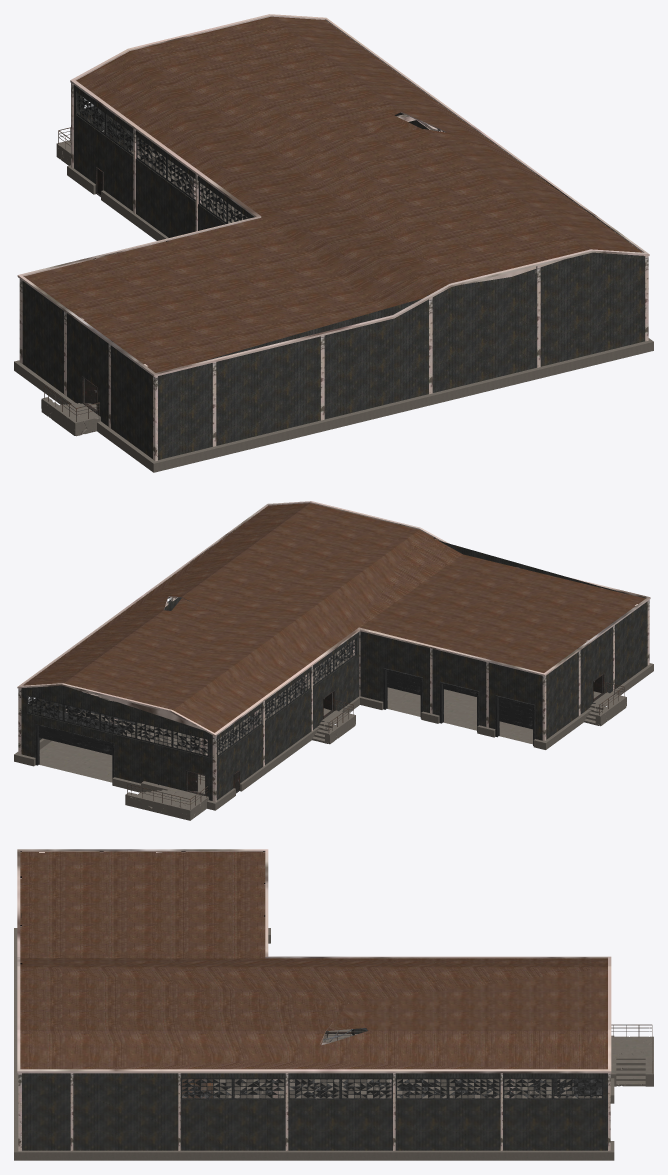
The model's file is warehouse.a49098b712.glb.
The picture shows the model from 3 angles, top to bottom: view 1: azimuth 30°, elevation 25°; view 2: azimuth 150°, elevation 25°; view 3: azimuth 270°, elevation 25°; orthographic projection. The views are drawn at different scales.
Visible parts, largest first — view 1: Roof, WarehouseWalls, WarehouseBase, SideSupportBeam, Windows, ConcreteSteps, Floor; view 2: Roof, WarehouseWalls, Floor, Windows, ConcreteSteps, WarehouseBase, SideSupportBeam, MainGate.001, SmallGateVar1, SmallGateVar2, Railings, SmallGateVar3; view 3: Roof, WarehouseWalls, Windows, WarehouseBase, Floor, ConcreteSteps, SideSupportBeam.
Part boxes in pixels (box(x1,y1,x2,y2)): Roof: box(17, 14, 649, 376); WarehouseWalls: box(22, 85, 644, 459); WarehouseBase: box(14, 150, 653, 472); SideSupportBeam: box(19, 83, 648, 461); Windows: box(76, 92, 443, 223); ConcreteSteps: box(41, 140, 175, 436); Floor: box(156, 165, 247, 223); Roof: box(17, 501, 650, 736); WarehouseWalls: box(21, 540, 647, 800); Floor: box(39, 644, 532, 784); Windows: box(27, 597, 355, 756); ConcreteSteps: box(125, 691, 626, 820); WarehouseBase: box(14, 663, 653, 810); SideSupportBeam: box(18, 537, 649, 801); MainGate.001: box(35, 704, 135, 778); SmallGateVar1: box(495, 695, 535, 745); SmallGateVar2: box(383, 668, 422, 718); Railings: box(127, 682, 624, 809); SmallGateVar3: box(439, 681, 479, 731); Roof: box(17, 849, 611, 1073); WarehouseWalls: box(21, 913, 607, 1150); Windows: box(180, 1078, 603, 1099); WarehouseBase: box(14, 928, 614, 1160); Floor: box(213, 1079, 601, 1098); ConcreteSteps: box(322, 1029, 653, 1086); SideSupportBeam: box(18, 851, 610, 1151).
Size of the model in its own units: 30.93 by 6.43 by 35.73.
Materials: 13 (13 with a texture image).
